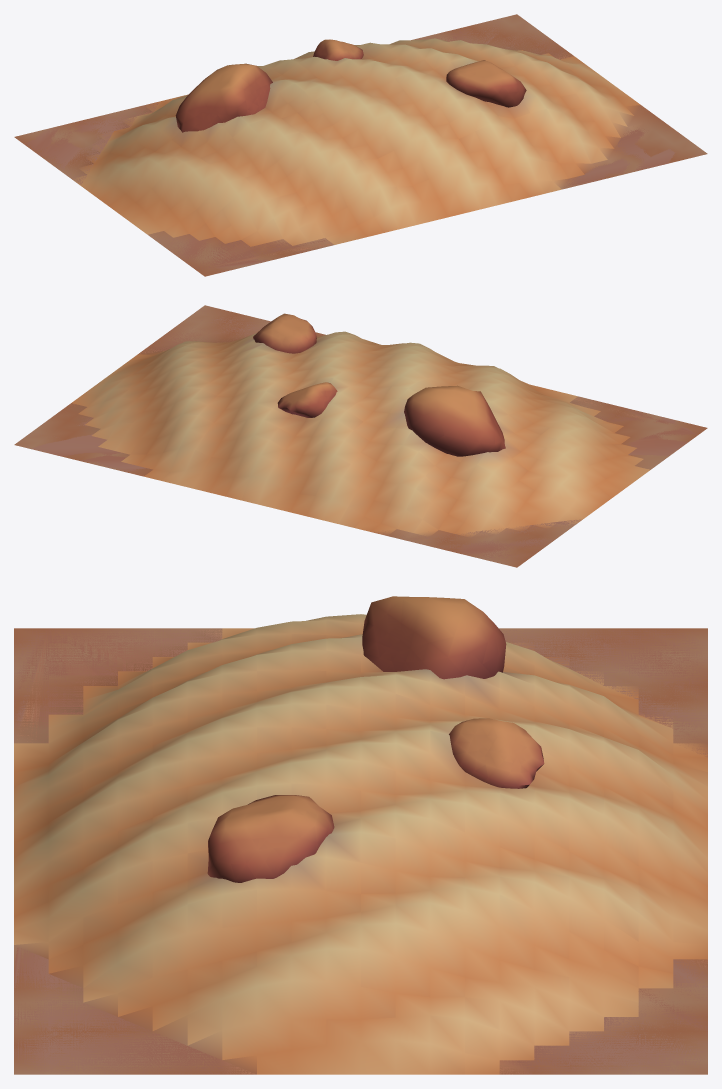
Rendered from amber_misc_dune_rocks_a.glb.
The picture shows the model from 3 angles, top to bottom: view 1: azimuth 30°, elevation 25°; view 2: azimuth 150°, elevation 25°; view 3: azimuth 270°, elevation 25°; orthographic projection. The views are drawn at different scales.
Parts seen in each view (by area): view 1: amber_misc_dune_rocks_a; view 2: amber_misc_dune_rocks_a; view 3: amber_misc_dune_rocks_a.
Boxes of the visible parts, <box> form: amber_misc_dune_rocks_a: <box>14,14,707,276</box>; amber_misc_dune_rocks_a: <box>14,305,707,567</box>; amber_misc_dune_rocks_a: <box>14,596,707,1074</box>.
Size of the model in its own units: 7 by 1.17 by 4.6.
